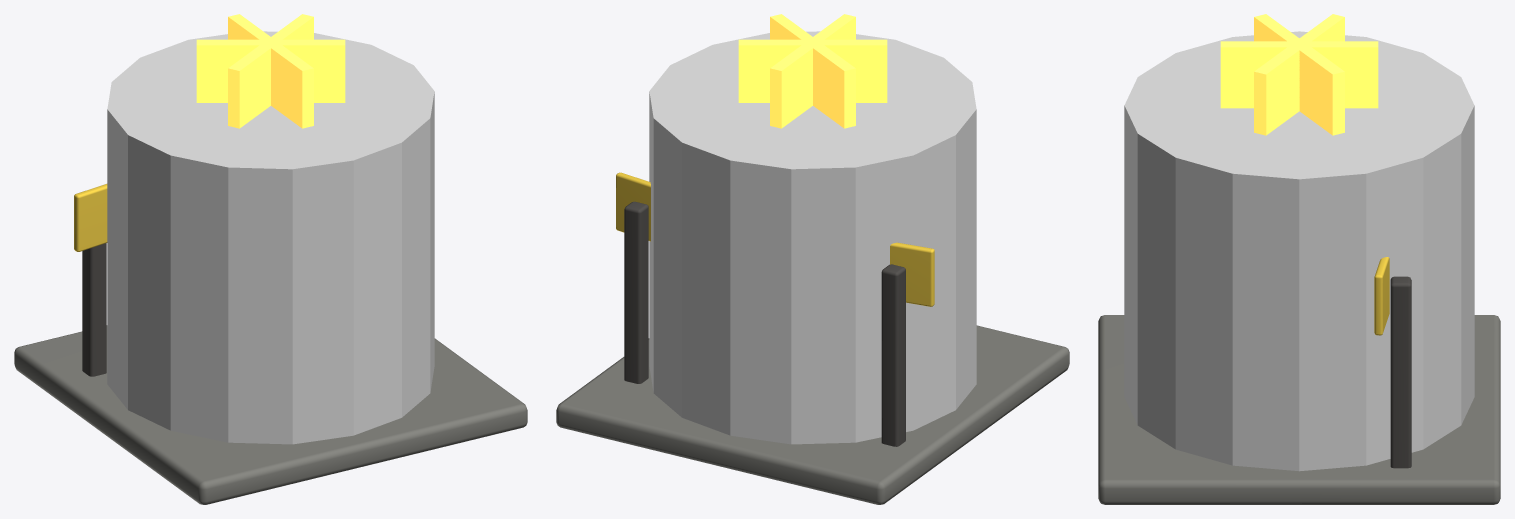
File: dz_einstein_fire_beacon_premium.glb
3 views of the same model, side by side, from view 1: azimuth 30°, elevation 25°; view 2: azimuth 150°, elevation 25°; view 3: azimuth 270°, elevation 25° (orthographic). The views are drawn at different scales.
Visible parts, largest first — view 1: COL_proxy_fire_beacon_radius_1m_height_2m, cracked concrete fire beacon base, animated flame billboard plane 2, animated flame billboard plane 1, animated flame billboard plane 3, side warning post 1, yellow light catching warning plate 1; view 2: COL_proxy_fire_beacon_radius_1m_height_2m, cracked concrete fire beacon base, animated flame billboard plane 3, side warning post 1, side warning post 2, animated flame billboard plane 1, animated flame billboard plane 2, yellow light catching warning plate 1, yellow light catching warning plate 2; view 3: COL_proxy_fire_beacon_radius_1m_height_2m, cracked concrete fire beacon base, animated flame billboard plane 1, side warning post 2, animated flame billboard plane 3, animated flame billboard plane 2, yellow light catching warning plate 2.
Part boxes in pixels (x1=…): COL_proxy_fire_beacon_radius_1m_height_2m: x1=107, y1=31, x2=434, y2=444; cracked concrete fire beacon base: x1=14, y1=325, x2=527, y2=504; animated flame billboard plane 2: x1=196, y1=39, x2=345, y2=102; animated flame billboard plane 1: x1=228, y1=14, x2=313, y2=128; animated flame billboard plane 3: x1=228, y1=14, x2=313, y2=128; side warning post 1: x1=82, y1=243, x2=106, y2=376; yellow light catching warning plate 1: x1=74, y1=184, x2=107, y2=251; COL_proxy_fire_beacon_radius_1m_height_2m: x1=649, y1=31, x2=976, y2=444; cracked concrete fire beacon base: x1=556, y1=325, x2=1069, y2=504; animated flame billboard plane 3: x1=738, y1=39, x2=887, y2=102; side warning post 1: x1=881, y1=264, x2=905, y2=446; side warning post 2: x1=624, y1=201, x2=648, y2=383; animated flame billboard plane 1: x1=770, y1=14, x2=855, y2=128; animated flame billboard plane 2: x1=770, y1=14, x2=855, y2=128; yellow light catching warning plate 1: x1=890, y1=242, x2=934, y2=306; yellow light catching warning plate 2: x1=616, y1=172, x2=650, y2=241; COL_proxy_fire_beacon_radius_1m_height_2m: x1=1124, y1=31, x2=1474, y2=471; cracked concrete fire beacon base: x1=1098, y1=315, x2=1500, y2=504; animated flame billboard plane 1: x1=1220, y1=41, x2=1378, y2=108; side warning post 2: x1=1390, y1=276, x2=1411, y2=468; animated flame billboard plane 3: x1=1254, y1=14, x2=1344, y2=135; animated flame billboard plane 2: x1=1254, y1=14, x2=1344, y2=135; yellow light catching warning plate 2: x1=1374, y1=257, x2=1389, y2=335.
Size of the model in its own units: 2.3 by 2.38 by 2.3.
